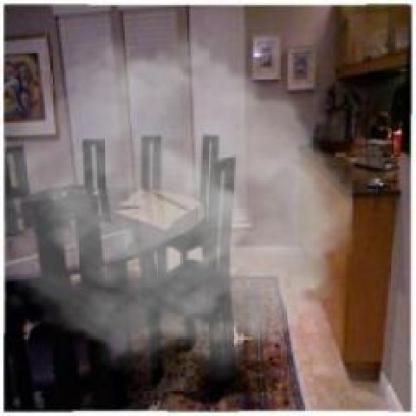Smoke: (4, 24, 353, 383)
